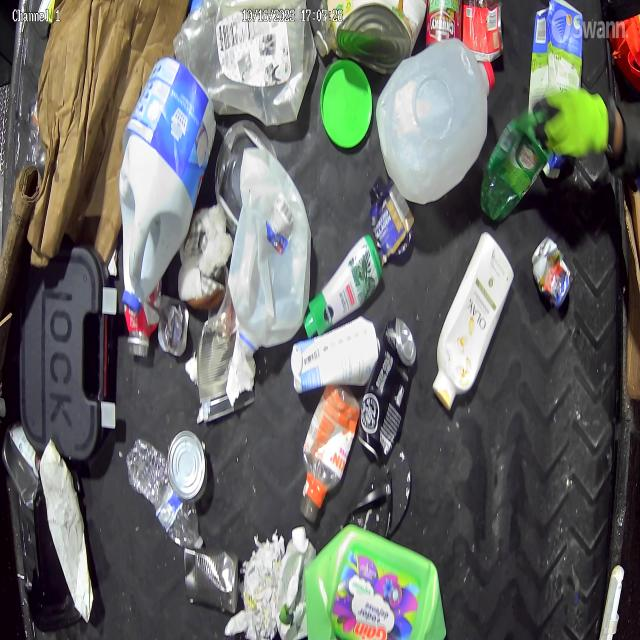can: (362, 318, 418, 444), (328, 0, 416, 70), (536, 0, 582, 88), (180, 538, 237, 604), (534, 228, 574, 310), (164, 424, 206, 498), (425, 0, 460, 52)
milk_jug: (120, 49, 200, 287), (380, 39, 500, 192), (240, 145, 316, 331)
non_white_jug: (307, 517, 446, 640)
plastic_bottle: (124, 438, 201, 545)
